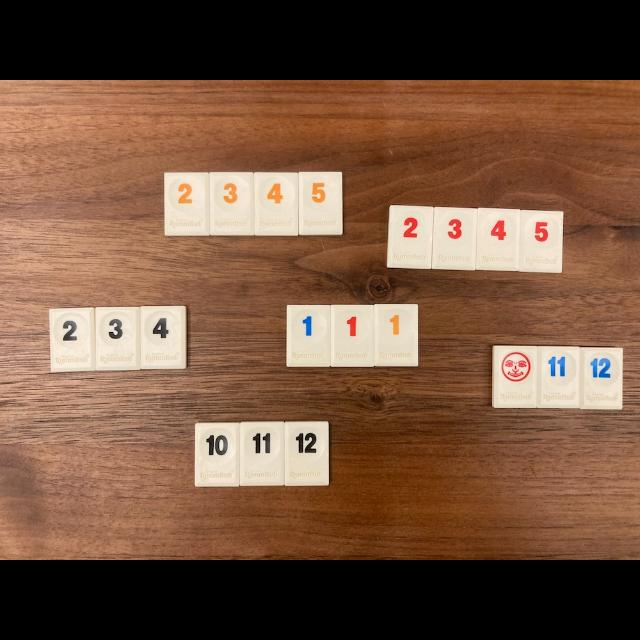black_10: (195, 423, 240, 486)
black_11: (240, 421, 285, 486)
black_12: (284, 421, 329, 486)
black_2: (49, 308, 95, 372)
black_3: (95, 308, 140, 371)
black_4: (140, 306, 186, 370)
blue_1: (286, 305, 330, 366)
blue_11: (538, 346, 580, 407)
blue_12: (580, 348, 622, 409)
joker: (492, 345, 538, 408)
orange_1: (374, 304, 419, 366)
orange_2: (164, 172, 210, 236)
orange_3: (210, 172, 254, 234)
orange_4: (255, 172, 299, 236)
orange_5: (299, 171, 342, 234)
red_1: (330, 305, 374, 367)
red_2: (386, 205, 434, 269)
red_3: (431, 208, 478, 270)
red_4: (476, 208, 520, 271)
red_5: (519, 210, 564, 272)
